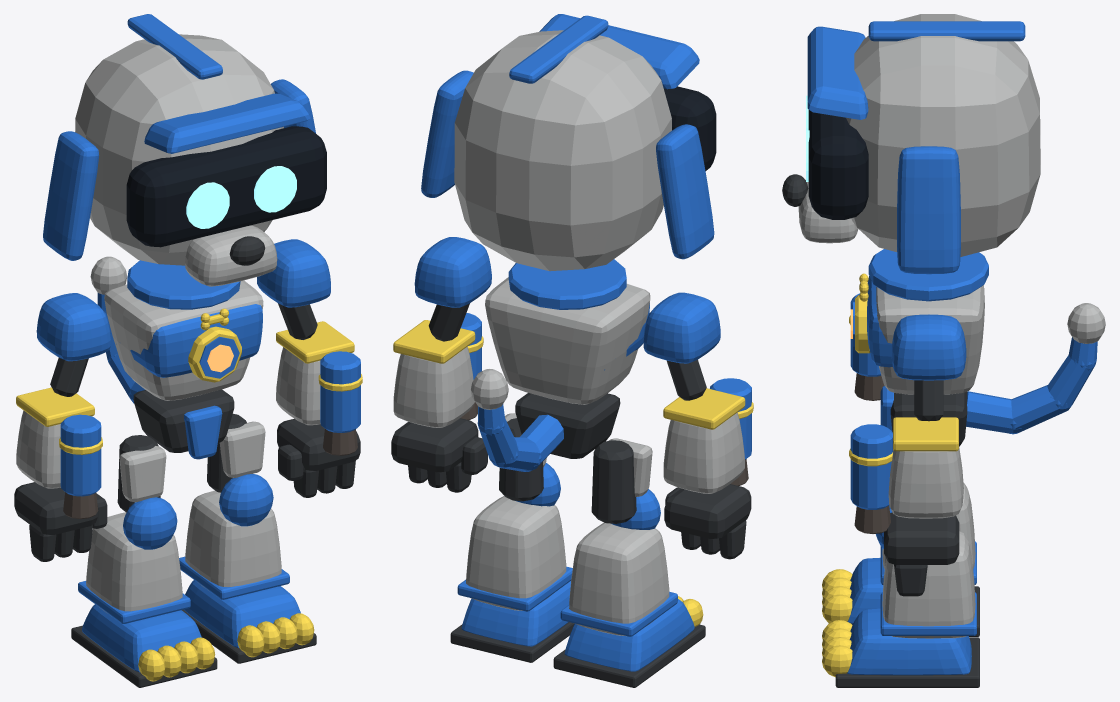
Rendered from cachorro.glb.
The picture shows the model from 3 angles, left to right: view 1: azimuth 30°, elevation 25°; view 2: azimuth 150°, elevation 25°; view 3: azimuth 270°, elevation 25°; orthographic projection. The views are drawn at different scales.
Visible parts, largest first — view 1: cabeca_p.001, visor.001, tronco_p.001, bota.003, bota.002, orelha_cao.001, testa.001, colete, ombro_p.003, pe.003, pe.002, ombro_p.002 (+46 smaller); view 2: cabeca_p.001, tronco_p.001, bota.003, bota.002, orelha_cao.001, antebraco.003, antebraco.002, pe.003, coleira, ombro_p.003, ombro_p.002, pelve.001 (+28 smaller); view 3: cabeca_p.001, orelha_cao, visor.001, pe.002, bota.002, antebraco.002, tronco_p.001, testa.001, ombro_p.002, coleira, mao.002, cano_base.002 (+23 smaller).
Boxes of the visible parts, bbox=[...] form: cabeca_p.001: bbox=[75, 34, 283, 265]; visor.001: bbox=[126, 126, 326, 247]; tronco_p.001: bbox=[104, 280, 263, 400]; bota.003: bbox=[86, 512, 182, 613]; bota.002: bbox=[185, 490, 281, 590]; orelha_cao.001: bbox=[43, 131, 99, 260]; testa.001: bbox=[144, 93, 310, 153]; colete: bbox=[116, 304, 262, 377]; ombro_p.003: bbox=[36, 293, 110, 361]; pe.003: bbox=[82, 604, 201, 672]; pe.002: bbox=[184, 580, 300, 647]; ombro_p.002: bbox=[257, 239, 330, 307]; cabeca_p.001: bbox=[454, 30, 671, 271]; tronco_p.001: bbox=[485, 277, 650, 404]; bota.003: bbox=[569, 522, 669, 636]; bota.002: bbox=[466, 496, 566, 610]; orelha_cao.001: bbox=[656, 124, 714, 259]; antebraco.003: bbox=[663, 412, 744, 493]; antebraco.002: bbox=[393, 346, 474, 427]; pe.003: bbox=[564, 599, 694, 671]; coleira: bbox=[508, 259, 626, 309]; ombro_p.003: bbox=[643, 292, 720, 363]; ombro_p.002: bbox=[414, 237, 491, 307]; pelve.001: bbox=[515, 393, 620, 458]; cabeca_p.001: bbox=[846, 14, 1040, 256]; orelha_cao: bbox=[897, 146, 960, 274]; visor.001: bbox=[808, 110, 868, 219]; pe.002: bbox=[847, 608, 971, 675]; bota.002: bbox=[882, 531, 975, 638]; antebraco.002: bbox=[888, 446, 963, 518]; tronco_p.001: bbox=[876, 285, 984, 394]; testa.001: bbox=[807, 26, 868, 119]; ombro_p.002: bbox=[891, 314, 966, 380]; coleira: bbox=[868, 249, 988, 301]; mao.002: bbox=[884, 512, 959, 564]; cano_base.002: bbox=[850, 424, 893, 509].
Size of the model in its own units: 0.645 by 1.13 by 0.538.
